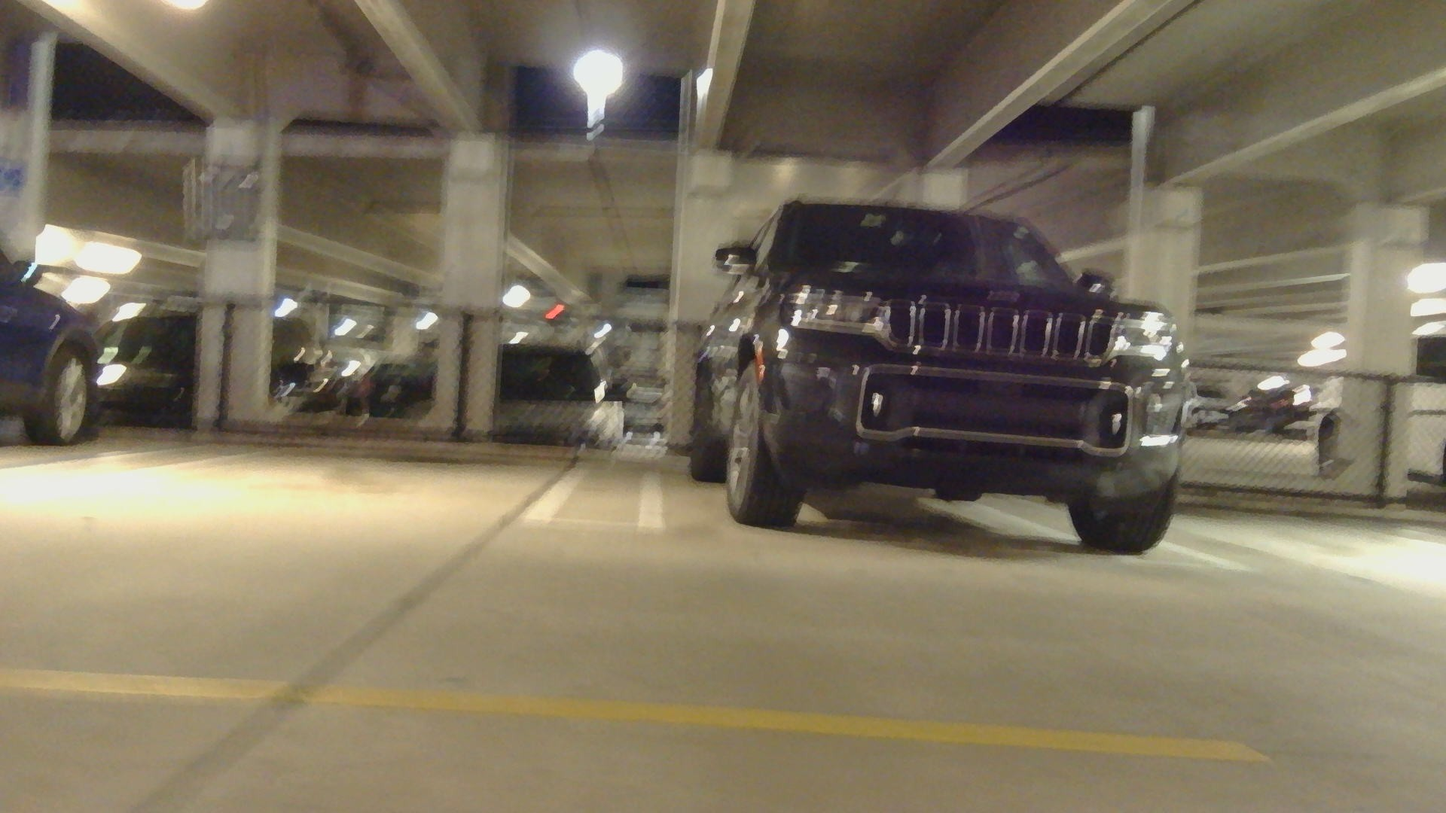empty_spot: (2, 334, 635, 528), (1167, 416, 1446, 610)
occupied_spot: (677, 187, 1216, 563)
